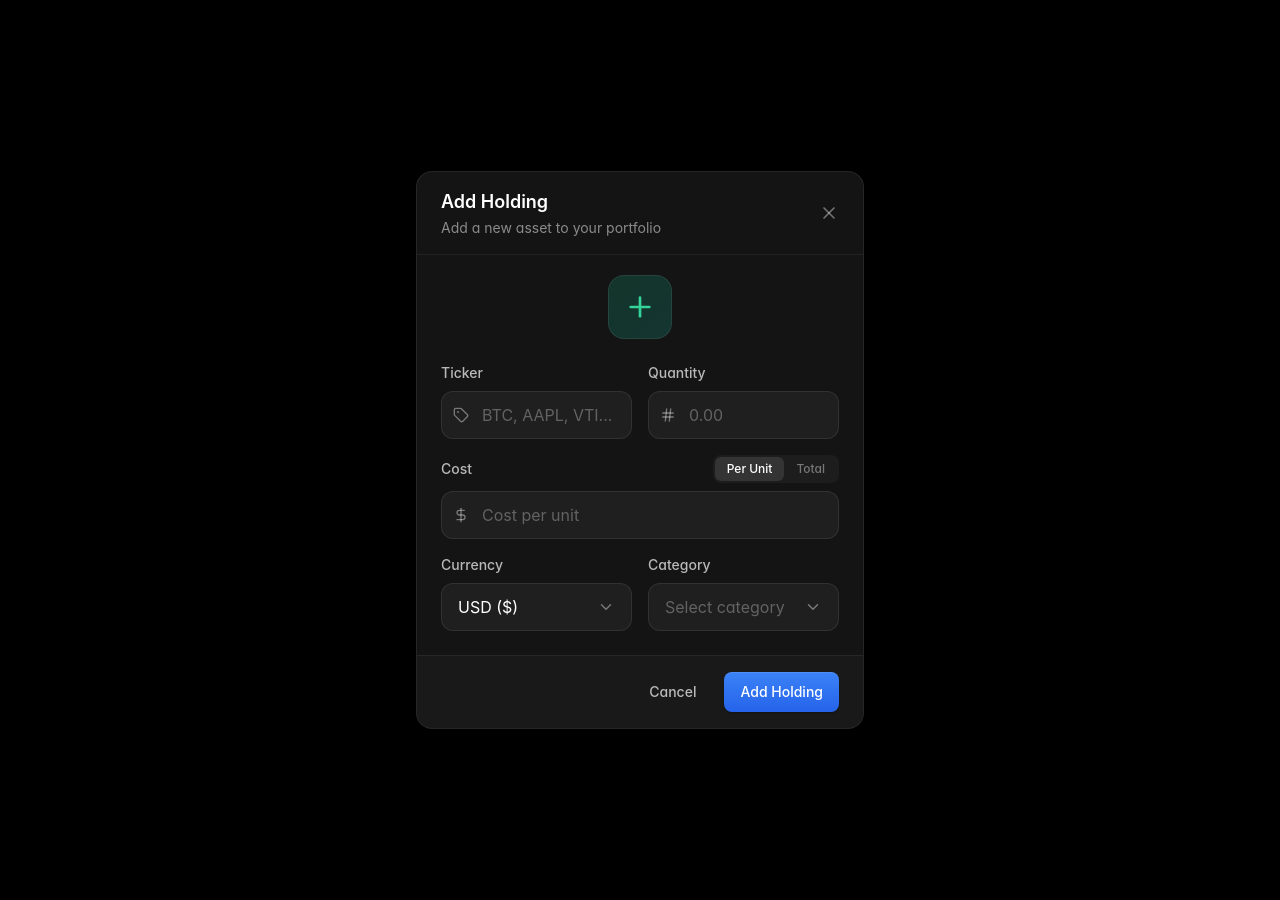
Phase 4: Holdings Management UI › AddHoldingModal Component › should validate required fields
This screenshot has width=1280, height=900.
// Try to submit without filling fields - find the submit button specifically
Click the button "Add Holding".
click(782, 692)  # box [724,672,839,712]
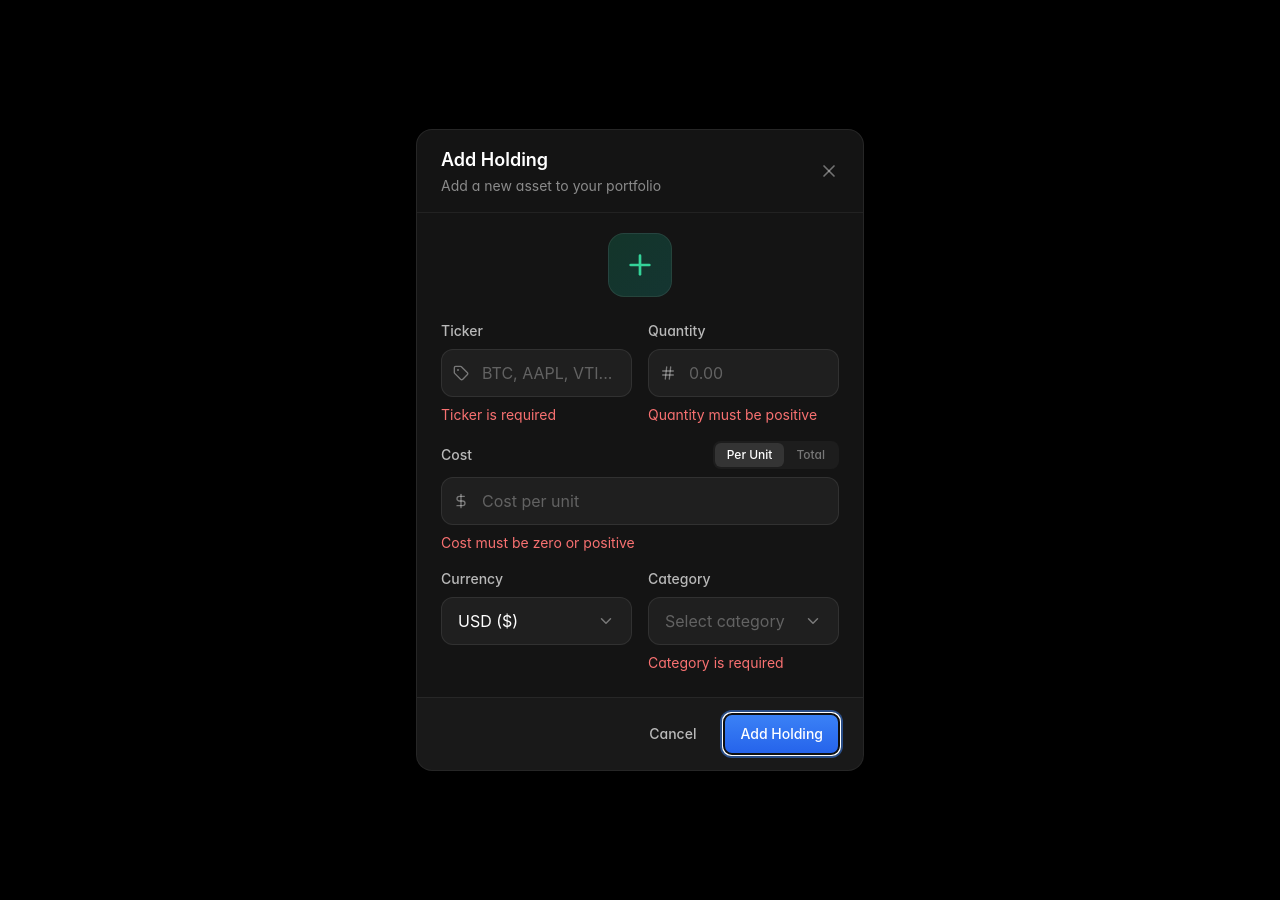
Expected: the text "Ticker is required" is shown, [441,406,556,423]
